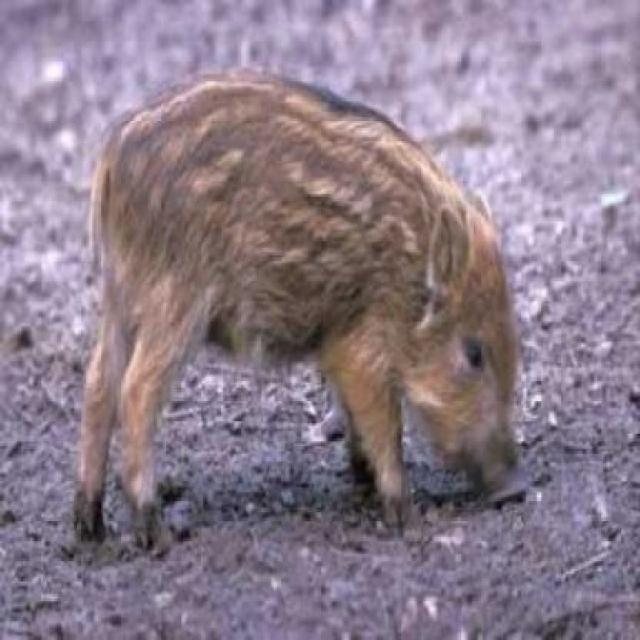Boar: (66, 40, 597, 495)
